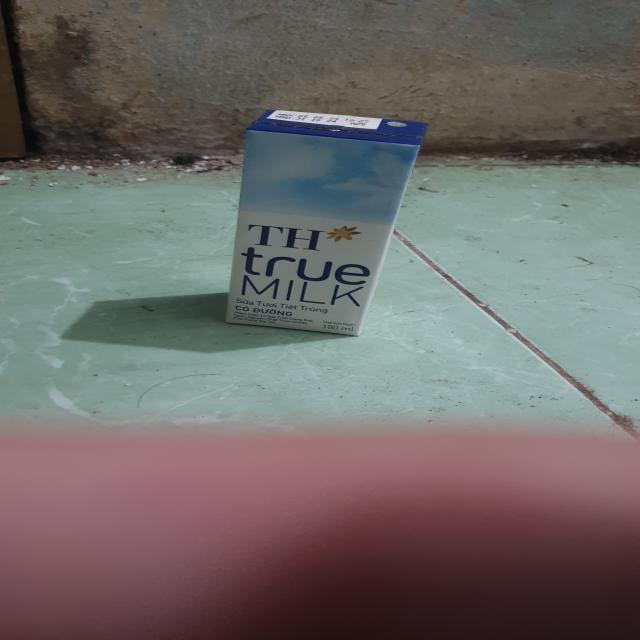TH: (224, 107, 431, 338)
